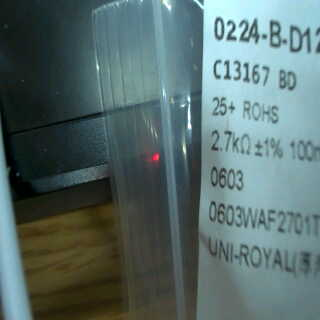2.7kR: (206, 127, 253, 158)
